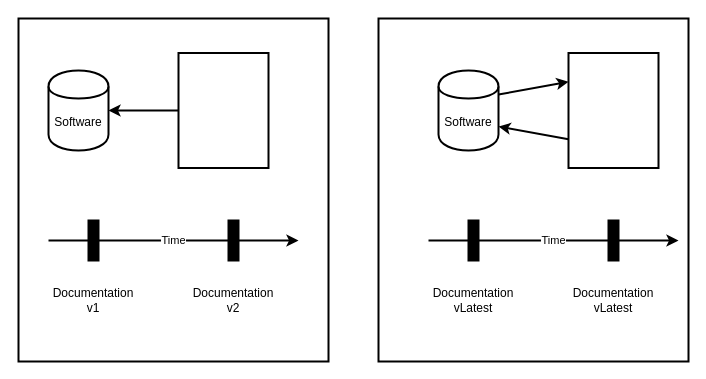
The diagram is 706 pixels wide and 379 high, and some of its shapes have lost their labels. The centre of each missing label's shape, as x and y in pixels:
"Distributed Tracing" goes at (613,110).
"Documentation" goes at (223,110).
